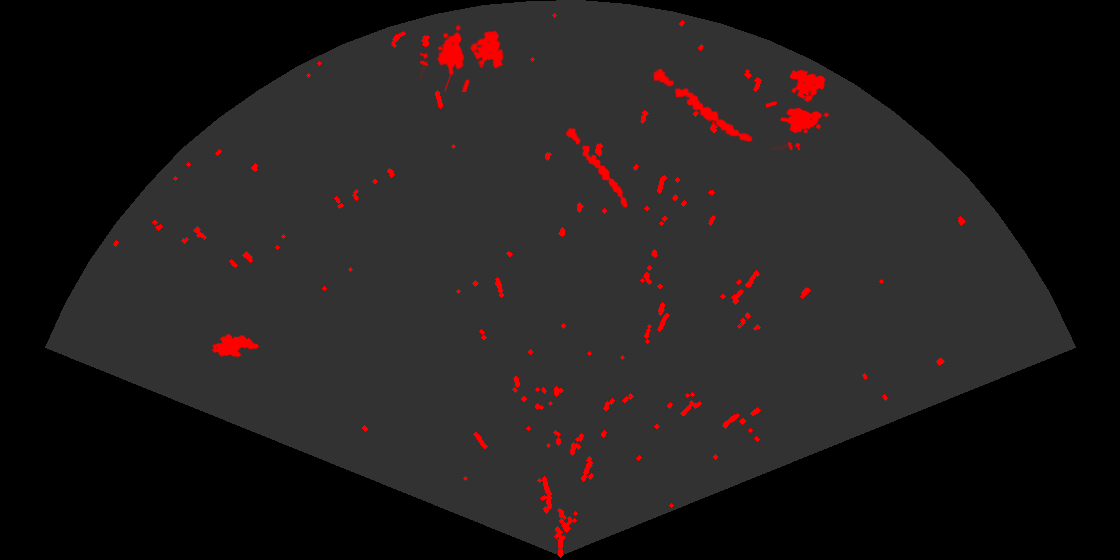AUV: (210, 332, 261, 358)
cage: (420, 23, 505, 92), (766, 68, 831, 150)
chain: (651, 67, 754, 144), (564, 126, 629, 209)
